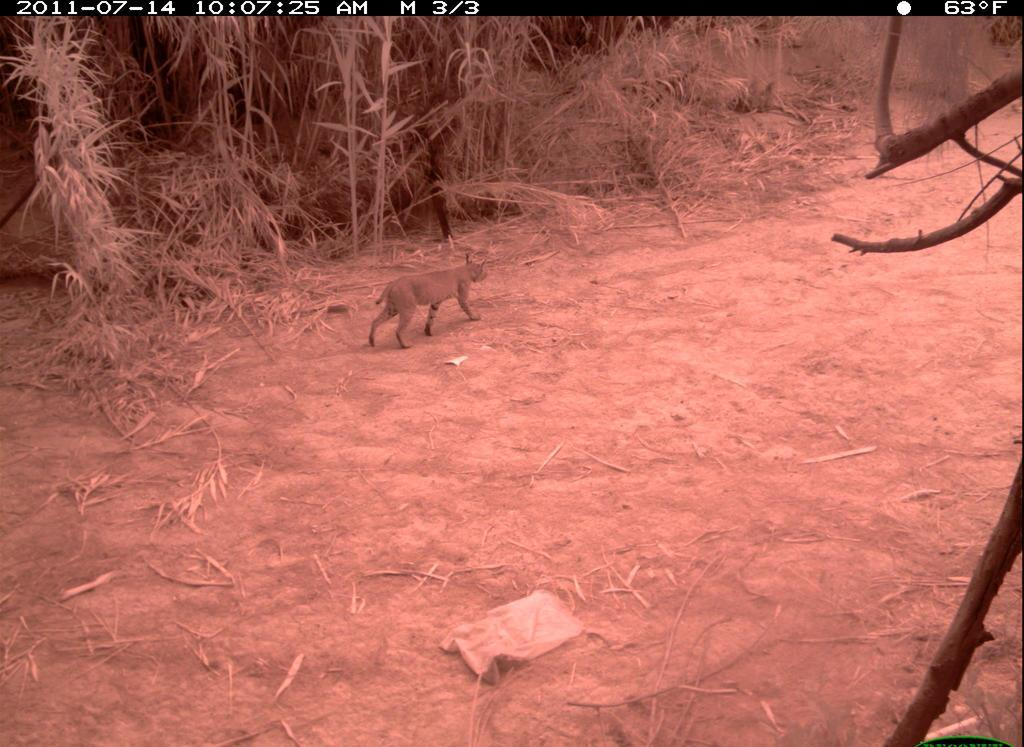bobcat: (356, 242, 497, 358)
